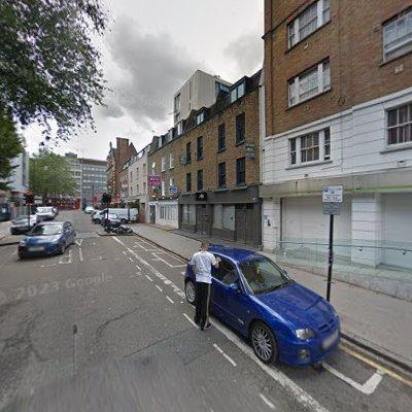moving-car: (18, 219, 76, 259), (84, 206, 95, 214)
moving-light-truck: (90, 207, 140, 225)
stationary-car-onstreet: (182, 244, 342, 370), (10, 214, 40, 236), (100, 212, 121, 228)
stationary-light-truck-onstreet: (34, 206, 54, 222)
stationary-motorcycle-onstreet: (107, 220, 135, 236)
